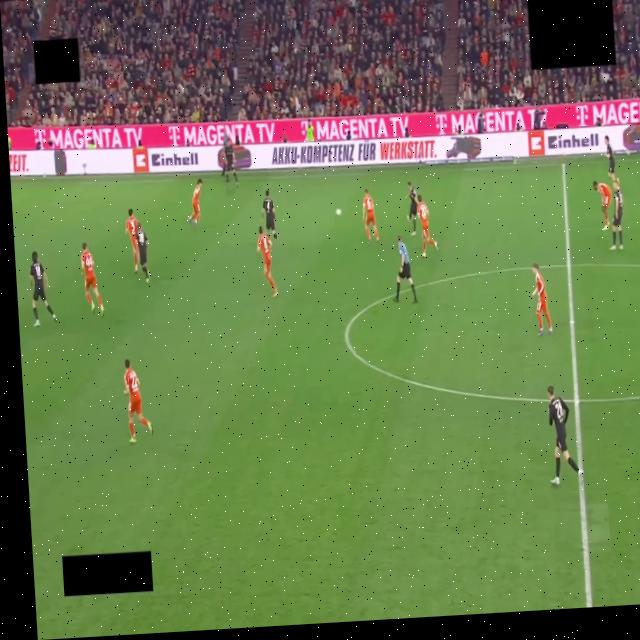ball: (336, 209, 341, 215)
player: (548, 386, 582, 485), (124, 360, 152, 443), (30, 252, 56, 326), (81, 243, 104, 316), (532, 263, 552, 336), (257, 225, 277, 296), (417, 195, 438, 257), (363, 188, 379, 244), (135, 223, 150, 282), (593, 181, 611, 230), (611, 181, 623, 250), (406, 181, 420, 236), (126, 209, 138, 272), (262, 191, 277, 240), (224, 139, 239, 187), (189, 179, 202, 227), (605, 136, 615, 179)
referee: (394, 235, 417, 304)
